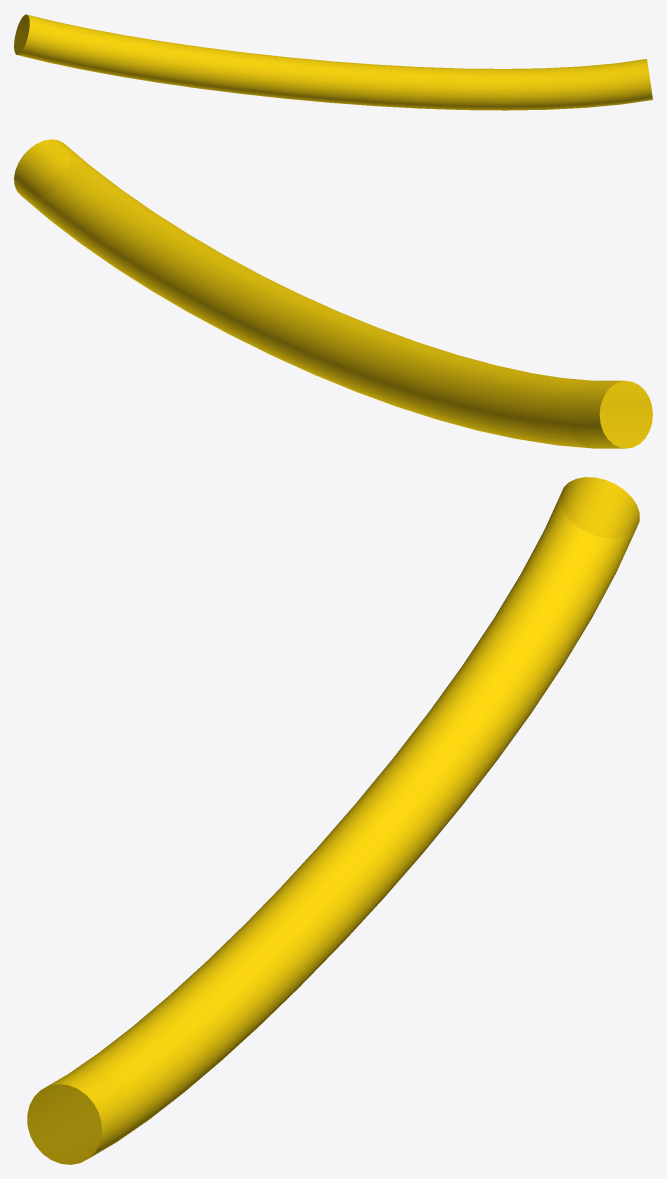
The model's file is Event_421115418_track_118.fbx.
3 renders of one model, top to bottom at view 1: azimuth 30°, elevation 25°; view 2: azimuth 150°, elevation 25°; view 3: azimuth 270°, elevation 25°, orthographic. The views are drawn at different scales.
Parts seen in each view (by area): view 1: Model; view 2: Model; view 3: Model.
Boxes of the visible parts, box(x1,y1,x2,y2) form: Model: box(14, 14, 652, 110); Model: box(14, 139, 652, 448); Model: box(27, 477, 639, 1164).
Size of the model in its own units: 0.5633 by 0.1171 by 0.2926.
